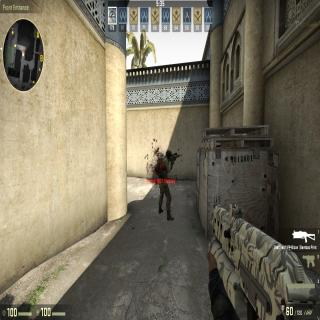CT-Body: (156, 148, 176, 222)
CT-Head: (165, 149, 172, 161)
